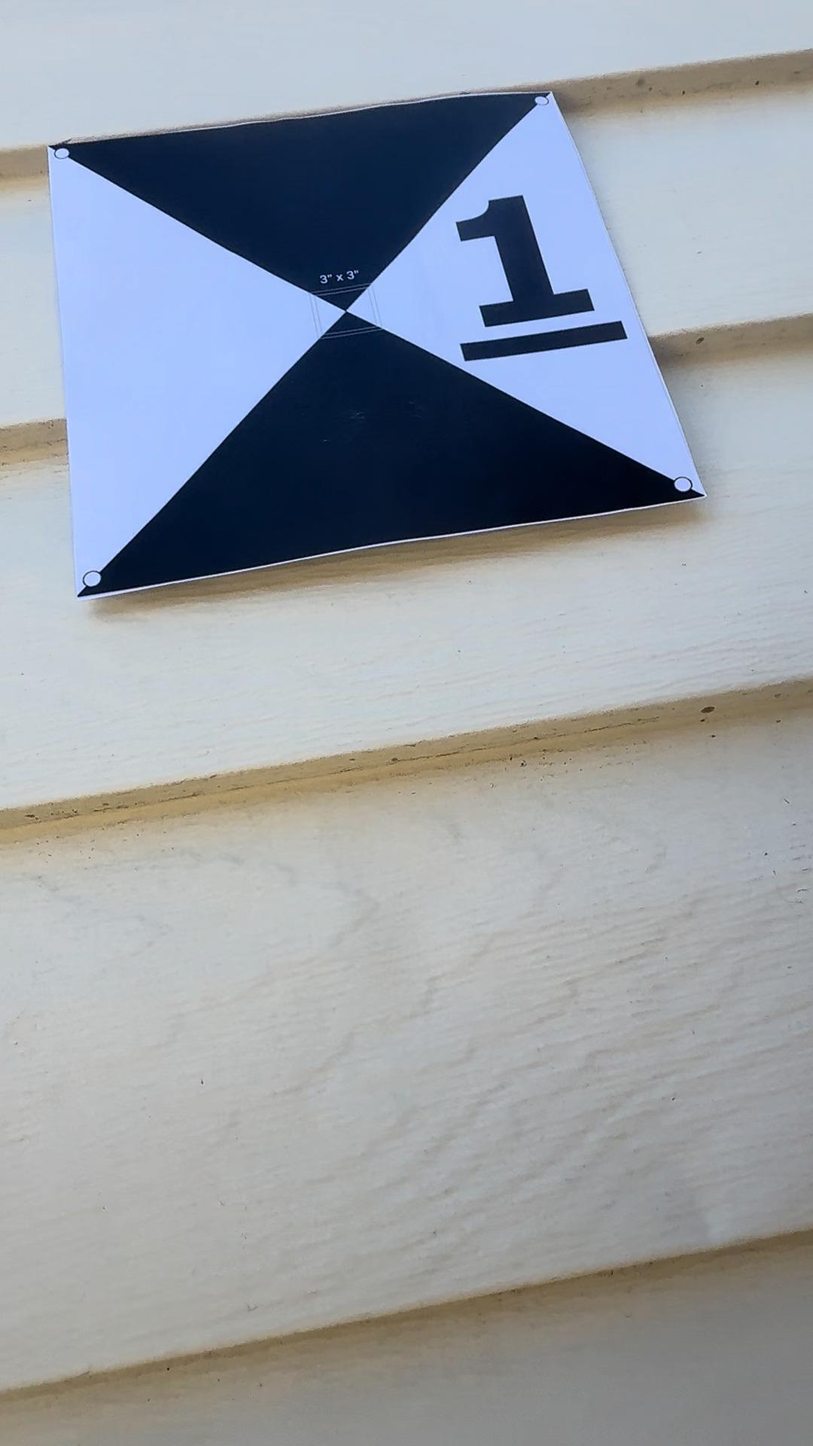target1: (30, 64, 730, 612)
